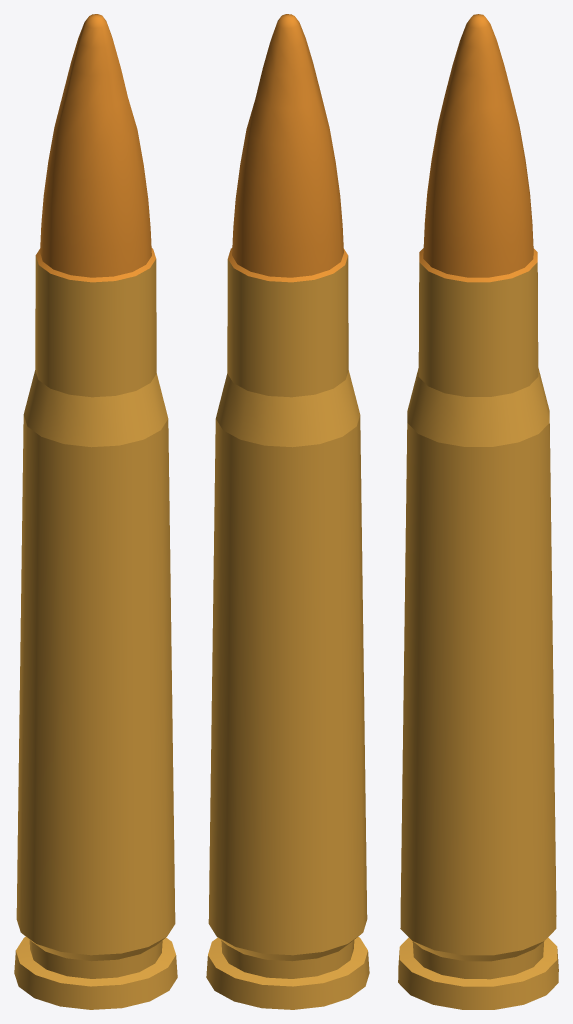
File: ammo6-food.fbx
3 views of the same model, side by side, from view 1: azimuth 30°, elevation 25°; view 2: azimuth 150°, elevation 25°; view 3: azimuth 270°, elevation 25° (orthographic).
Parts seen in each view (by area): view 1: ammo6-food; view 2: ammo6-food; view 3: ammo6-food.
Boxes of the visible parts, x1,y1,x2,y2 form: ammo6-food: [14, 14, 177, 1009]; ammo6-food: [206, 14, 369, 1009]; ammo6-food: [398, 14, 558, 1009].
Bounding box in the file's own units: 0.0116 × 0.0766 × 0.0116.
